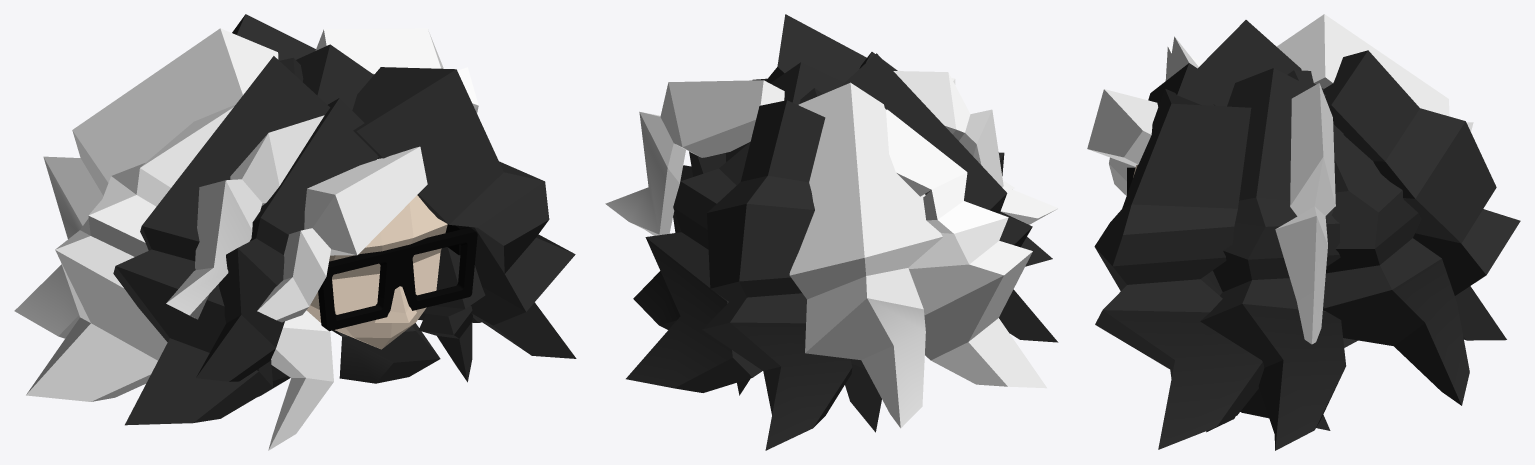
The model's file is scene_bUJDLrKZ9P.glb.
The picture shows the model from 3 angles, left to right: view 1: azimuth 30°, elevation 25°; view 2: azimuth 150°, elevation 25°; view 3: azimuth 270°, elevation 25°; orthographic projection. The views are drawn at different scales.
Visible parts, largest first — view 1: pCube19; view 2: pCube19; view 3: pCube19.
Boxes of the visible parts, x1,y1,x2,y2 form: pCube19: [14, 14, 576, 450]; pCube19: [605, 14, 1058, 450]; pCube19: [1087, 14, 1520, 450].
Bounding box in the file's own units: 5.35 × 3.96 × 4.32.
